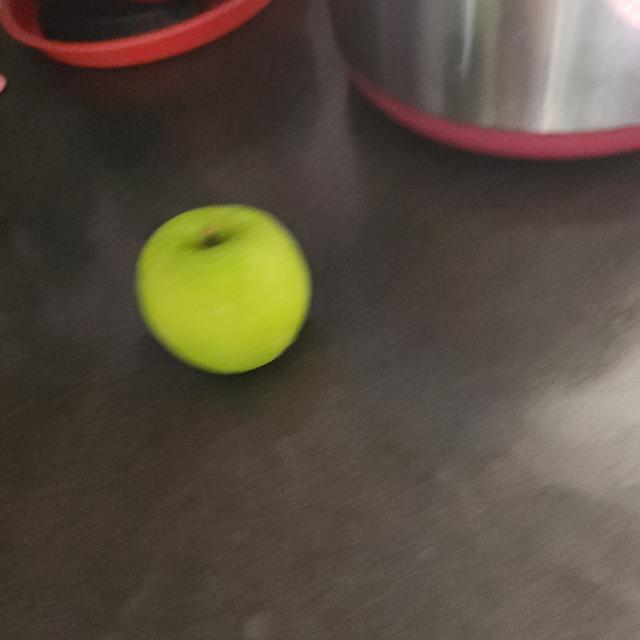apple: (126, 190, 323, 385)
